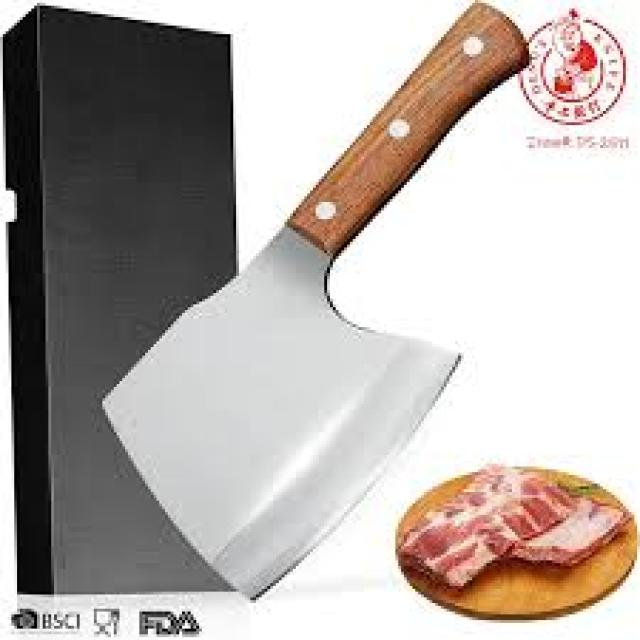Knife: (102, 3, 521, 594)
